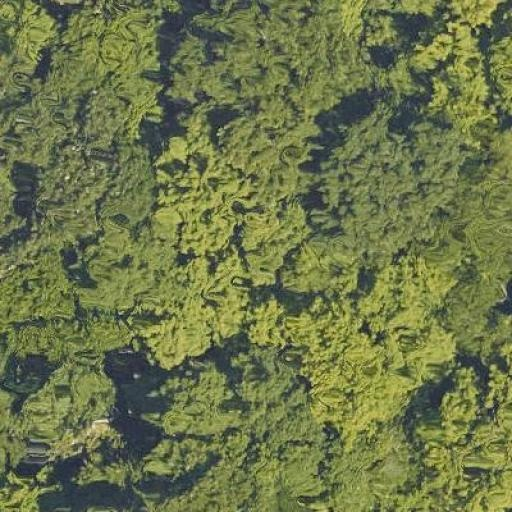tree-top: (292, 272, 447, 428), (162, 0, 360, 115), (322, 105, 460, 257), (0, 122, 100, 241), (20, 356, 130, 462), (65, 7, 159, 130), (139, 258, 238, 367), (408, 15, 500, 128), (419, 368, 512, 475), (157, 136, 233, 254), (146, 356, 242, 442), (231, 190, 300, 293), (226, 115, 314, 194), (0, 246, 80, 324), (0, 0, 54, 99), (103, 140, 152, 234), (0, 469, 49, 512)
